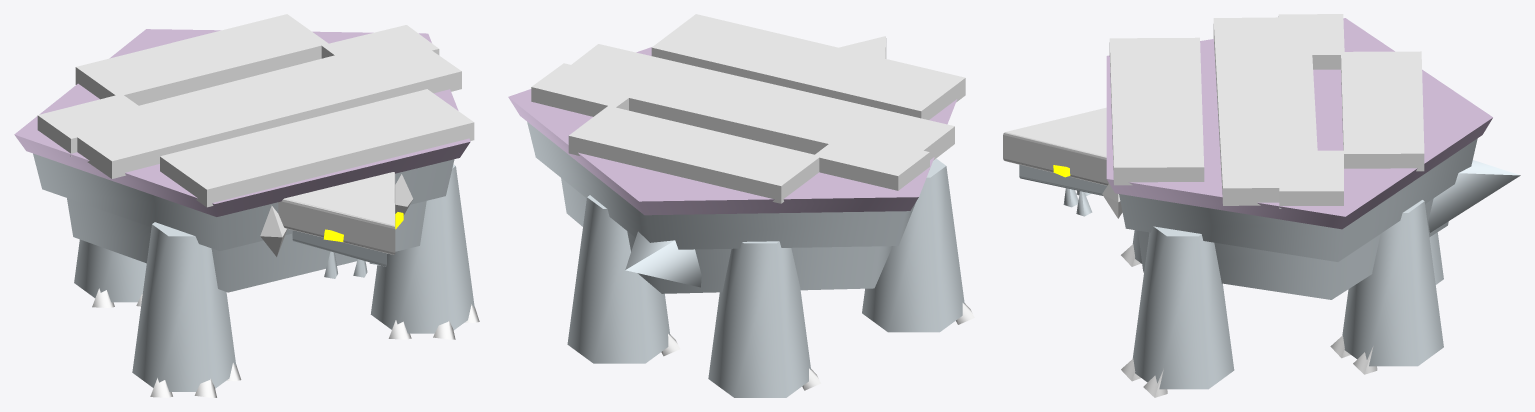
Rendered from 03_Table_Seracrawl.glb.
3 renders of one model, left to right at view 1: azimuth 30°, elevation 25°; view 2: azimuth 150°, elevation 25°; view 3: azimuth 270°, elevation 25°, orthographic.
Size of the model in its own units: 14.59 by 7.49 by 16.06.
